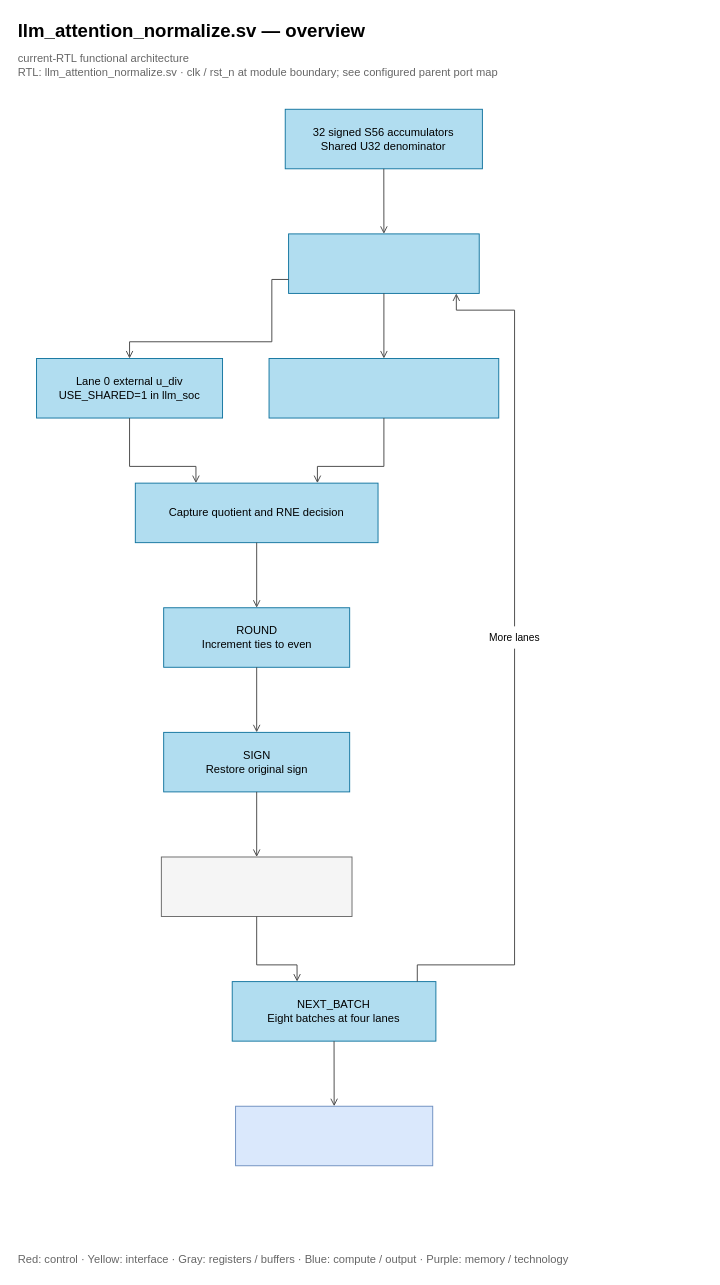
The diagram is 720 pixels wide and 1285 high, and some of its shapes have lost their labels. The centre of each missing label's shape, as x and y in pixels:
Batch operand capture Magnitude U64 / sign bits: the point at 383,263
CLAMP S24 output lane registers: the point at 256,886
Lanes 1 to 3 private dividers U64 numerator / U32 denominator: the point at 383,388
vector_o 768 bits / done_o: the point at 334,1135
